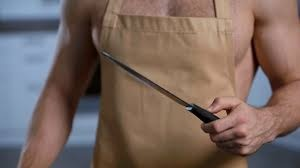knife: (100, 50, 222, 124)
